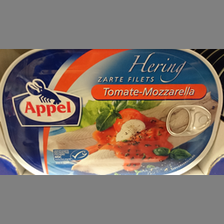fish: (2, 50, 222, 174)
